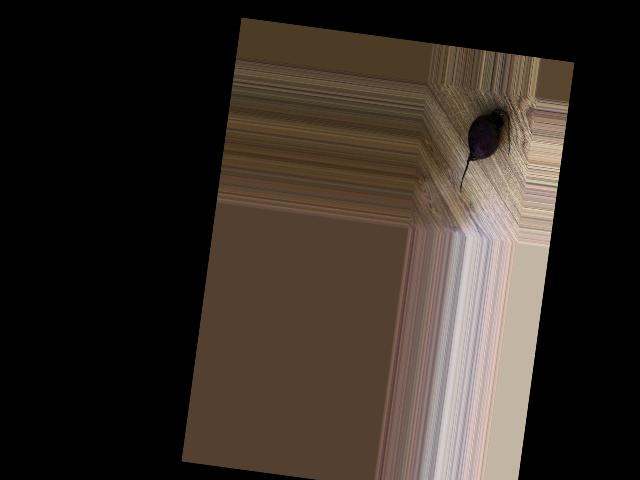beet: (459, 105, 514, 199)
